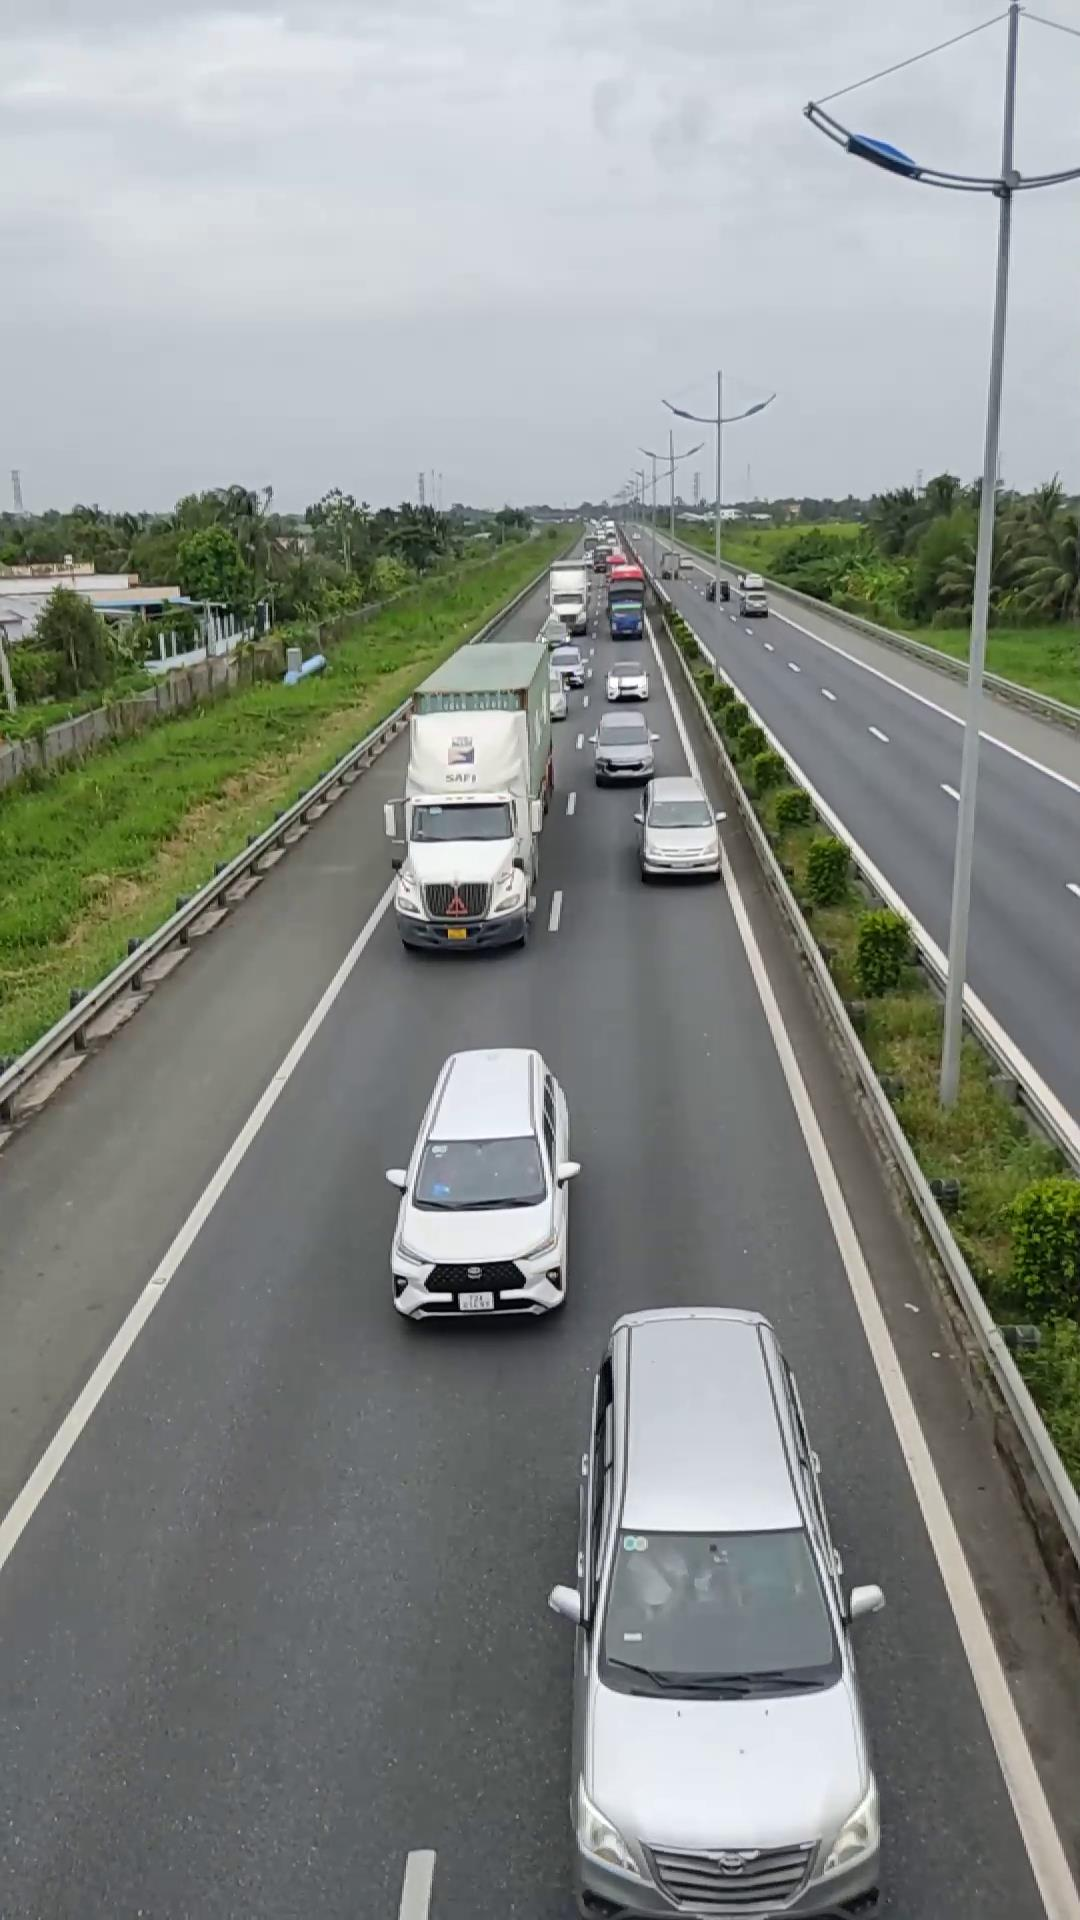car: (555, 1299, 888, 1917), (382, 1044, 581, 1326), (633, 774, 725, 882), (587, 716, 656, 784)
container: (394, 637, 558, 954)
